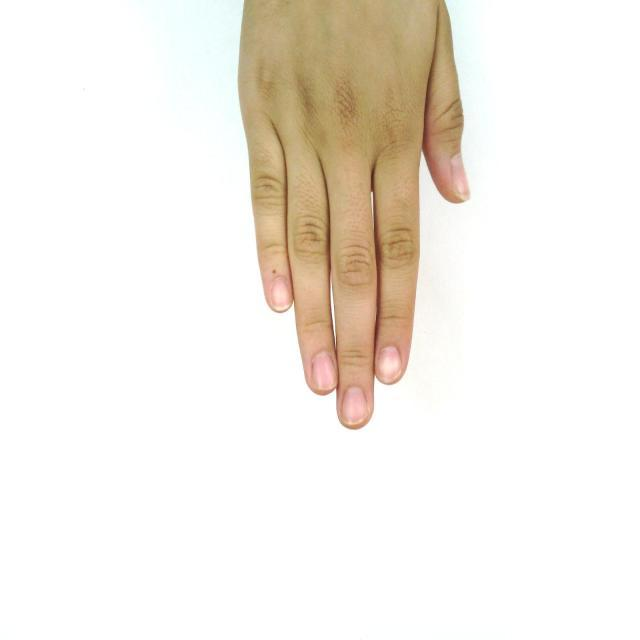Fingernail: (342, 387, 366, 424), (312, 353, 335, 390), (452, 155, 470, 199), (378, 347, 400, 381), (272, 278, 291, 309)
